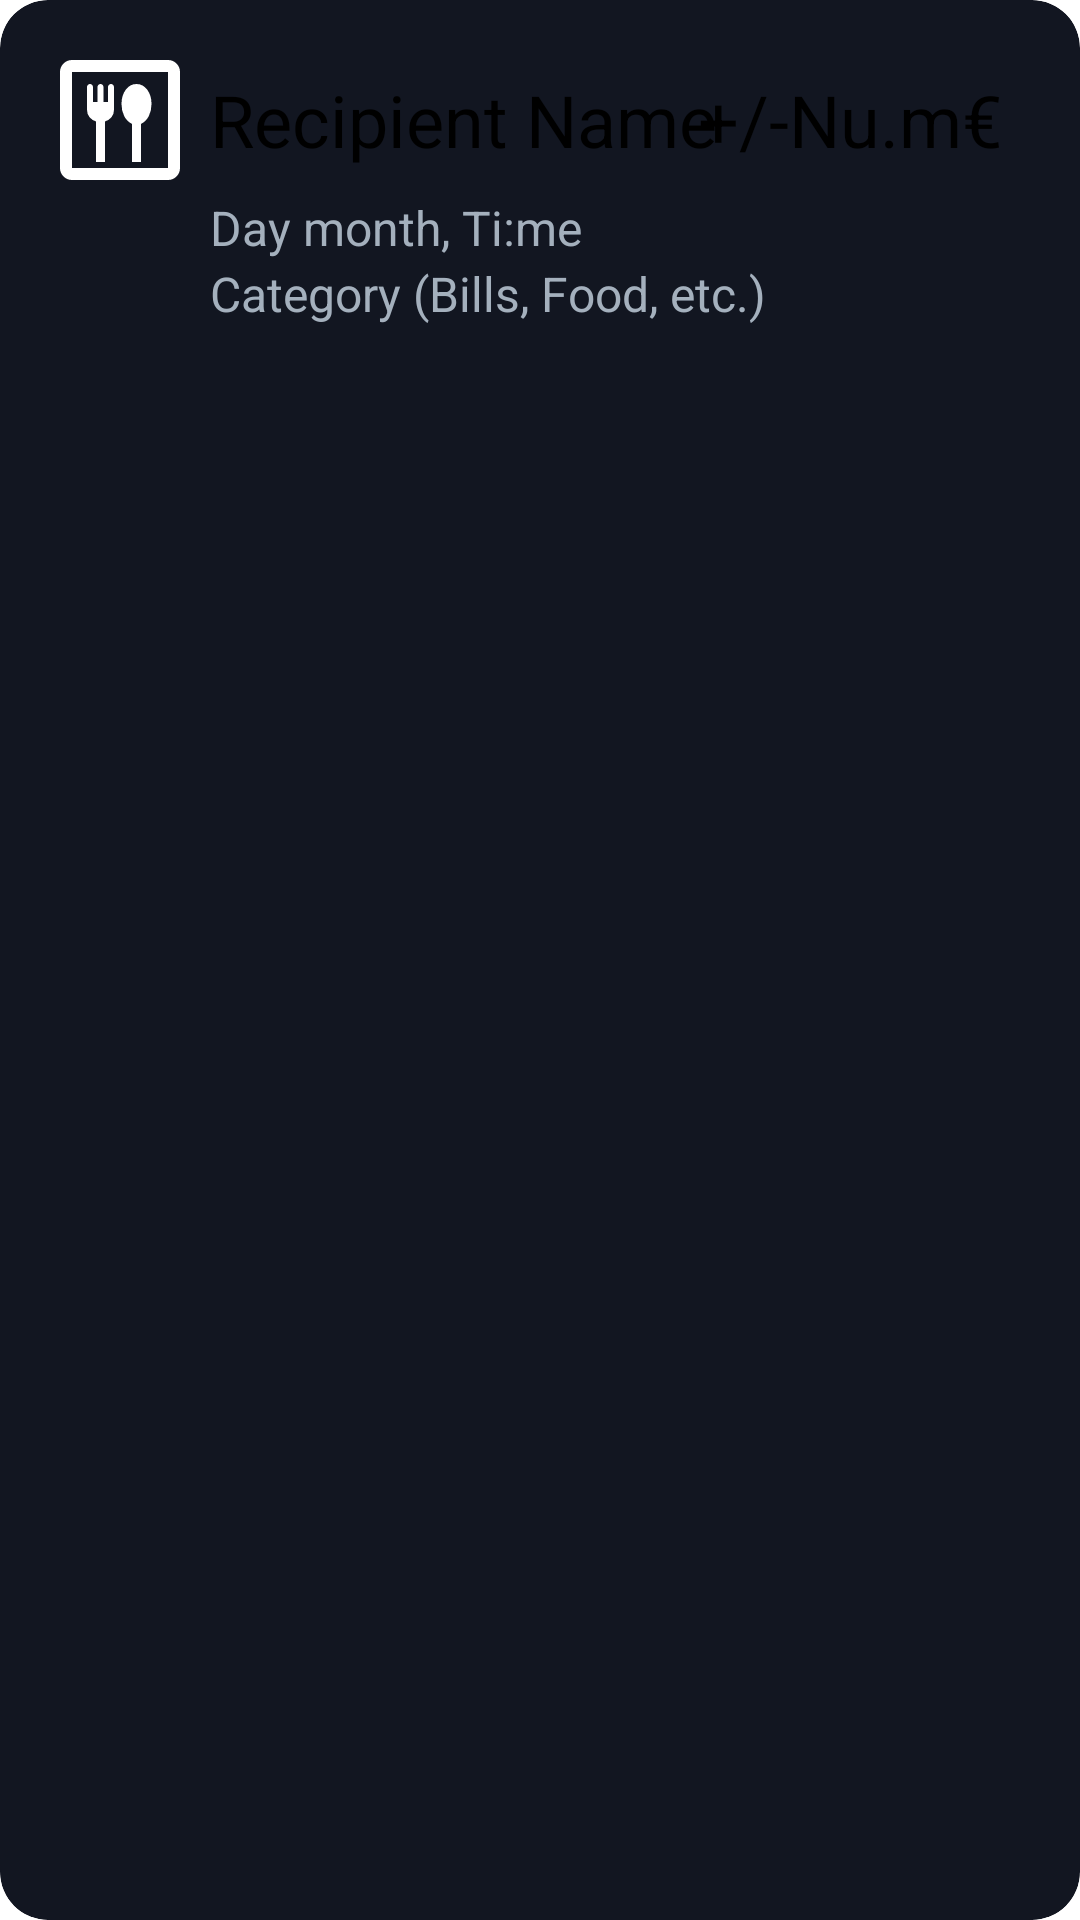

Point at icon controls on the screen. Image size 1080 x 1920, points as (x=x, y=y).
dining: (x=120, y=120)
